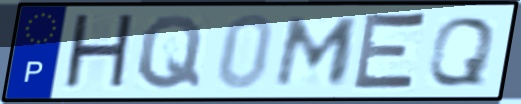0: (214, 12, 280, 93)
E: (348, 9, 431, 95)
H: (59, 11, 138, 94)
M: (270, 15, 364, 89)
Q: (423, 14, 499, 89), (135, 13, 206, 92)
